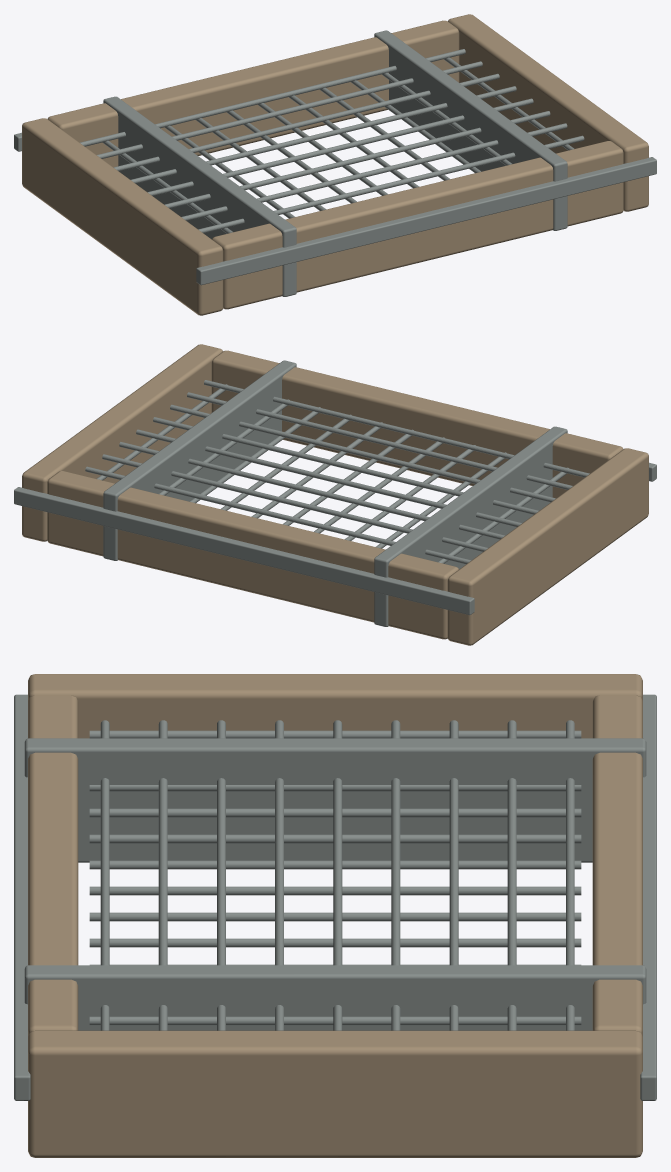
Rendered from coastal-saltworks-and-trade-port-coastal-saltworks-and-0300c466__31391.glb.
3 renders of one model, top to bottom at view 1: azimuth 30°, elevation 25°; view 2: azimuth 150°, elevation 25°; view 3: azimuth 270°, elevation 25°, orthographic. The views are drawn at different scales.
Parts seen in each view (by area): view 1: coastal-saltworks-and-trade-port-salt-grading-sieve; view 2: coastal-saltworks-and-trade-port-salt-grading-sieve; view 3: coastal-saltworks-and-trade-port-salt-grading-sieve.
Boxes of the visible parts, bbox=[...] form: coastal-saltworks-and-trade-port-salt-grading-sieve: bbox=[14, 14, 656, 315]; coastal-saltworks-and-trade-port-salt-grading-sieve: bbox=[14, 344, 656, 645]; coastal-saltworks-and-trade-port-salt-grading-sieve: bbox=[14, 674, 656, 1157].
Size of the model in its own units: 0.81 by 0.114 by 0.575.
